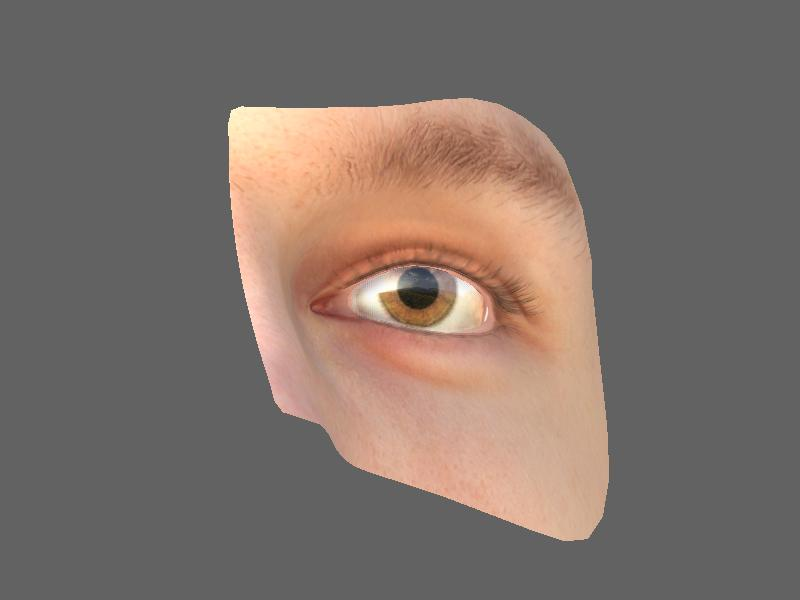iris: (378, 266, 460, 326)
